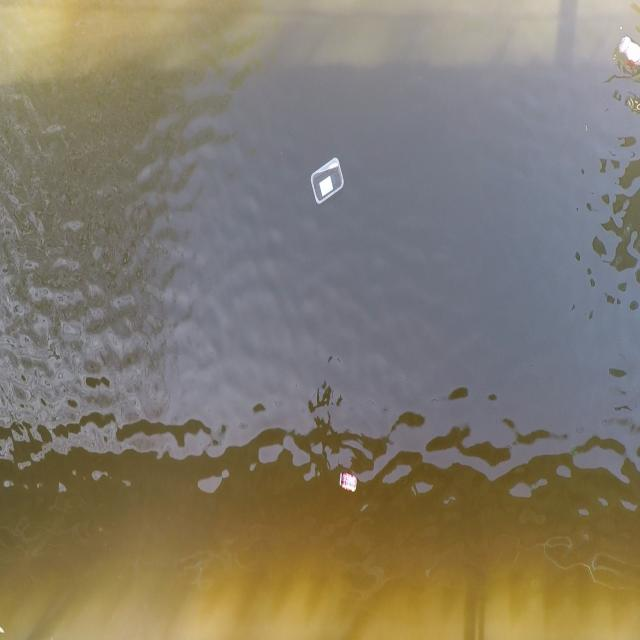Autre plastique: (306, 153, 348, 210)
Non plastique: (337, 463, 362, 499)
